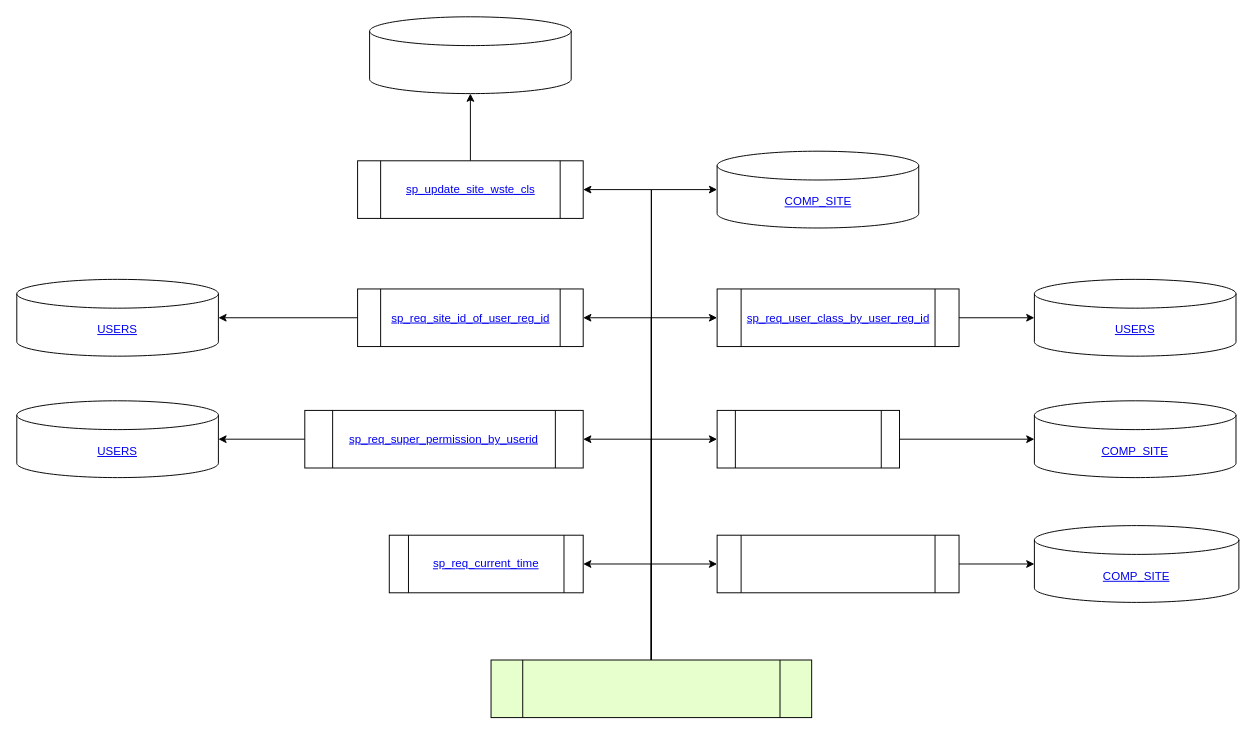
Image size: 1256x734. Some labels were removed from this diagram. Here are the shapes that lost their labels. From the top down, the box of each, then its label:
(369, 16, 571, 94): SITE_WSTE_CLS_MATCH
(716, 409, 900, 468): sp_req_comp_id_of_site
(716, 534, 959, 593): sp_req_site_exists
(490, 659, 812, 718): sp_update_site_permit_info_without_handler
